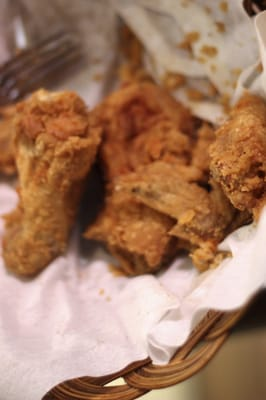burger: (39, 284, 265, 400)
